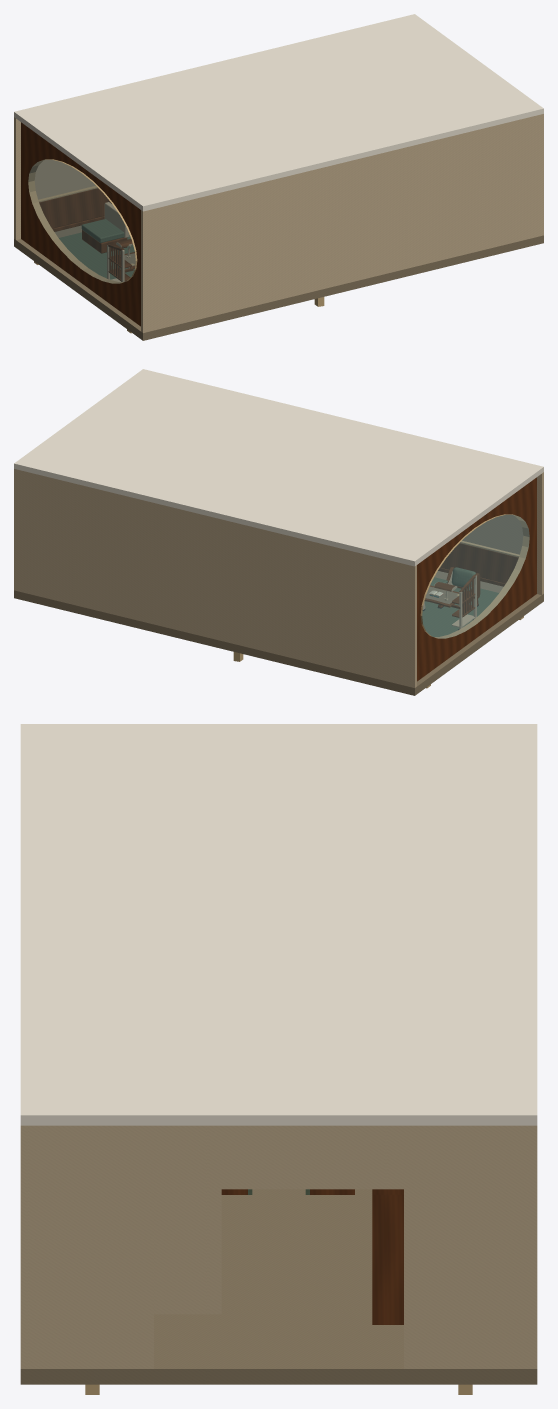
The model's file is NG542_AtriumInterior_r001.glb.
The picture shows the model from 3 angles, top to bottom: view 1: azimuth 30°, elevation 25°; view 2: azimuth 150°, elevation 25°; view 3: azimuth 270°, elevation 25°; orthographic projection. The views are drawn at different scales.
Visible parts, largest first — view 1: NG542_RuntimeBatch_001, NG542_OvalAtriumGlass, NG542_RuntimeBatch_002, NG542_RoomFloor, NGA_542_South_LowPanel, NG542_RuntimeBatch_004, NGA_542_OutlookFloorInlay, NGA_542_ViewSeat_Cushion, NG542_RuntimeBatch_007; view 2: NG542_RuntimeBatch_001, NG542_OvalAtriumGlass, NG542_RuntimeBatch_002, NG542_RoomFloor, NGA_542_North_LowPanel, NG542_RuntimeBatch_004, NGA_542_OutlookFloorInlay, NG542_RuntimeBatch_007, NG542_RuntimeBatch_008; view 3: NG542_RuntimeBatch_001, NG542_RoomFloor, NG542_RuntimeBatch_002.
Part boxes in pixels (box(x1,y1,x2,y2)): NG542_RuntimeBatch_001: box(14, 14, 543, 332); NG542_OvalAtriumGlass: box(28, 160, 135, 283); NG542_RuntimeBatch_002: box(21, 122, 140, 326); NG542_RoomFloor: box(14, 225, 543, 340); NGA_542_South_LowPanel: box(39, 188, 111, 228); NG542_RuntimeBatch_004: box(28, 159, 324, 333); NGA_542_OutlookFloorInlay: box(59, 232, 134, 279); NGA_542_ViewSeat_Cushion: box(81, 219, 124, 242); NG542_RuntimeBatch_007: box(108, 244, 134, 281); NG542_RuntimeBatch_001: box(14, 369, 543, 687); NG542_OvalAtriumGlass: box(422, 515, 529, 638); NG542_RuntimeBatch_002: box(417, 477, 536, 681); NG542_RoomFloor: box(14, 571, 543, 695); NGA_542_North_LowPanel: box(440, 543, 518, 583); NG542_RuntimeBatch_004: box(233, 514, 529, 688); NGA_542_OutlookFloorInlay: box(422, 577, 498, 636); NG542_RuntimeBatch_007: box(424, 574, 475, 617); NG542_RuntimeBatch_008: box(423, 575, 476, 629); NG542_RuntimeBatch_001: box(20, 724, 537, 1368); NG542_RoomFloor: box(20, 1189, 537, 1384); NG542_RuntimeBatch_002: box(221, 1189, 403, 1324).
Size of the model in its own units: 12.9 by 4.91 by 7.2.
44 materials, 20 textured.
